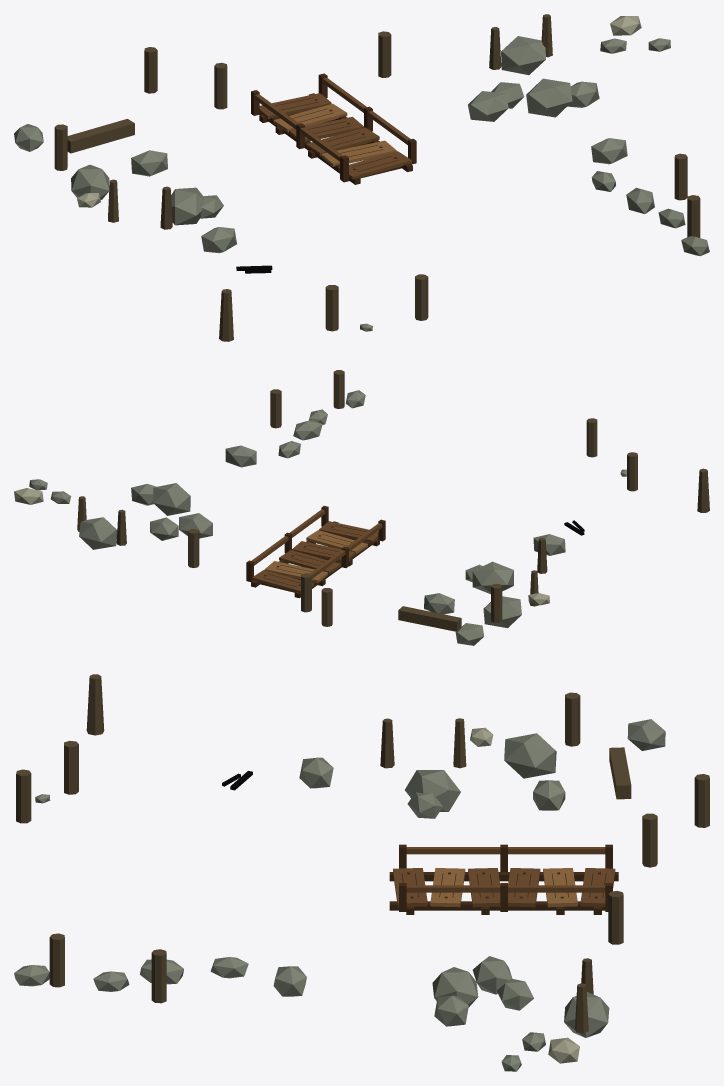
File: cutbank_ford_solid_props.fbx
The picture shows the model from 3 angles, top to bottom: view 1: azimuth 30°, elevation 25°; view 2: azimuth 150°, elevation 25°; view 3: azimuth 270°, elevation 25°; orthographic projection. The views are drawn at different scales.
Visible parts, largest first — view 1: chunk_cutbank_ford__PropsSolid; view 2: chunk_cutbank_ford__PropsSolid; view 3: chunk_cutbank_ford__PropsSolid.
Part boxes in pixels (x1,y1,x2,y2): chunk_cutbank_ford__PropsSolid: [14, 14, 709, 341]; chunk_cutbank_ford__PropsSolid: [14, 370, 709, 645]; chunk_cutbank_ford__PropsSolid: [14, 674, 709, 1071].
Bounding box in the file's own units: 224 × 22.78 × 186.
